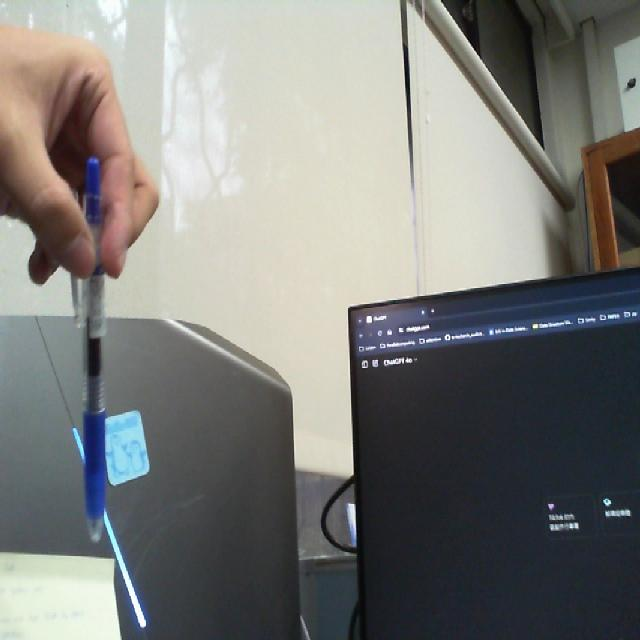Pen: (57, 150, 138, 573)
